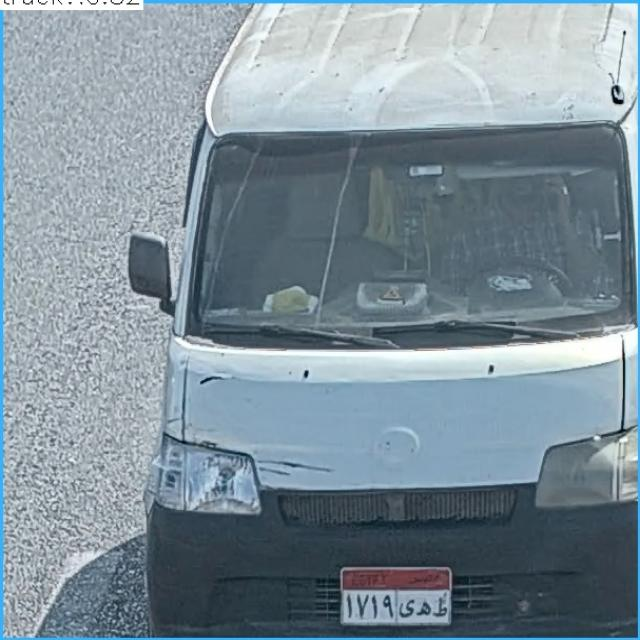windshield: (191, 134, 624, 324)
